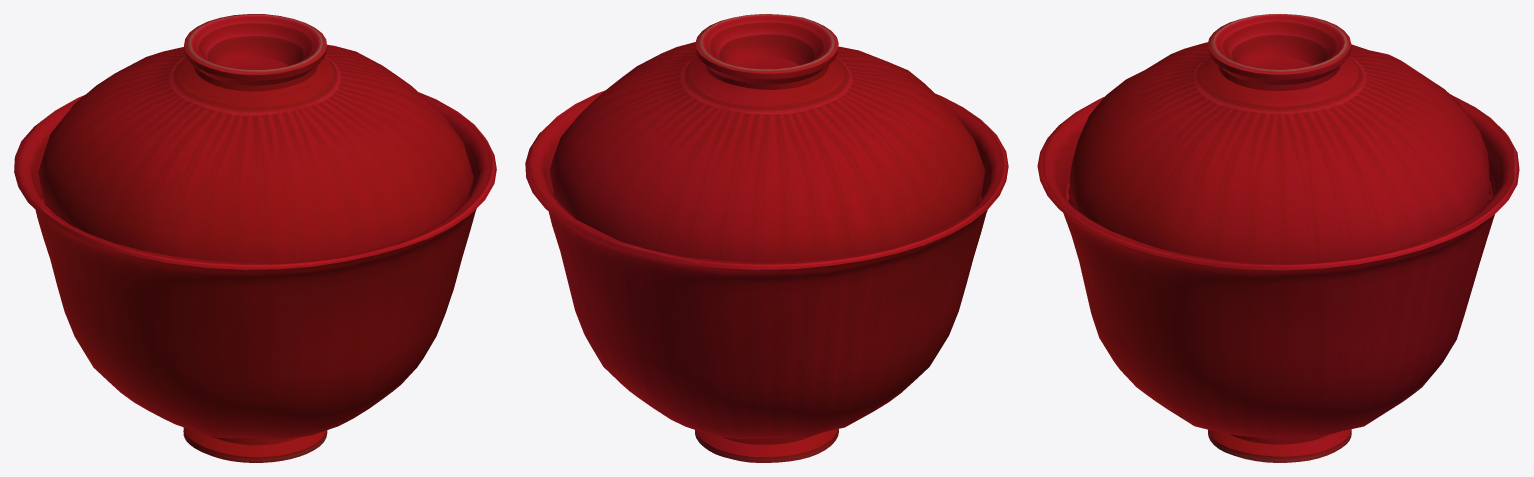
Rendered from 19-qing-vermilion-bowl.glb.
3 renders of one model, left to right at view 1: azimuth 30°, elevation 25°; view 2: azimuth 150°, elevation 25°; view 3: azimuth 270°, elevation 25°, orthographic.
Parts seen in each view (by area): view 1: Mesh_0_Retopo; view 2: Mesh_0_Retopo; view 3: Mesh_0_Retopo.
Boxes of the visible parts, x1,y1,x2,y2 form: Mesh_0_Retopo: (14, 14, 496, 462); Mesh_0_Retopo: (525, 14, 1008, 462); Mesh_0_Retopo: (1037, 14, 1519, 462).
Size of the model in its own units: 15.57 by 13.99 by 15.55.
Materials: 1 (1 with a texture image).
